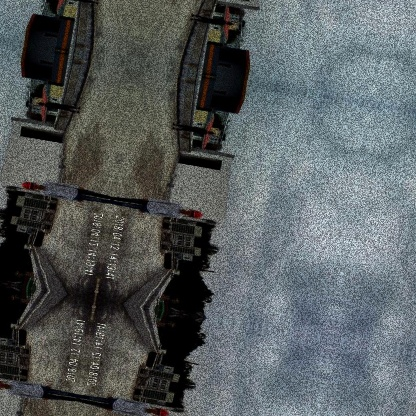red: (191, 206, 206, 221)
